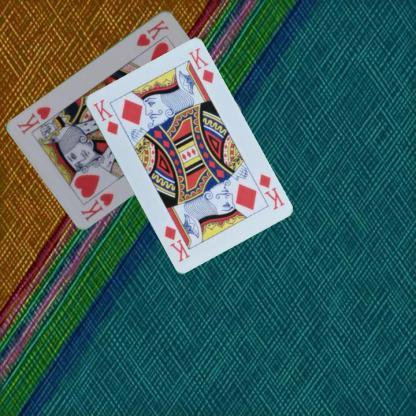Kd: (256, 170, 286, 212), (90, 96, 120, 136)
Kh: (78, 190, 116, 223), (134, 17, 170, 48)
